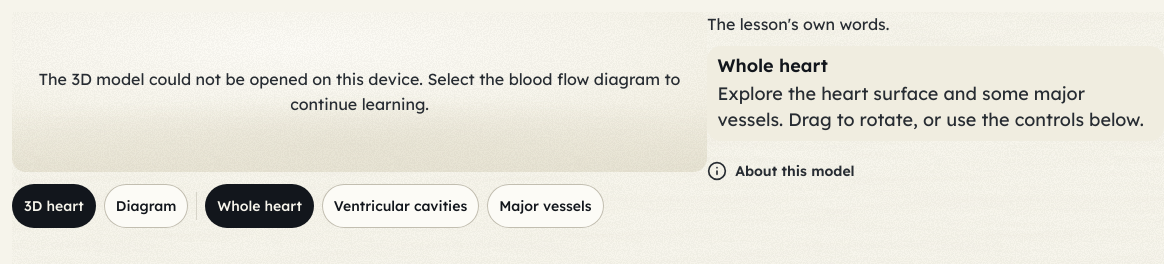
Scenario: a 3D scene on a lesson slide › folds the heart and the flow diagram switch into the scene row and keeps the focus on it
The image size is (1164, 264).
Click the button with aria-label "Blood flow diagram".
click(146, 206)  # box 104,184 -> 188,228
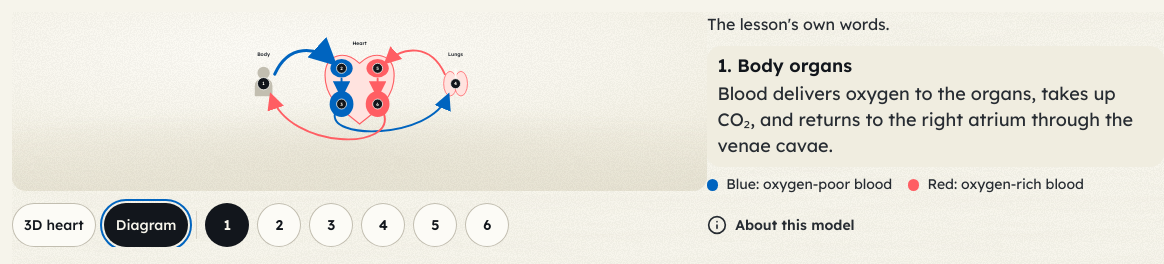
Expected: the number of buttons with class "stage3d-bead" is 6
Click the button named "3. Right ventricle".
click(331, 225)  # box 309,203 -> 353,247
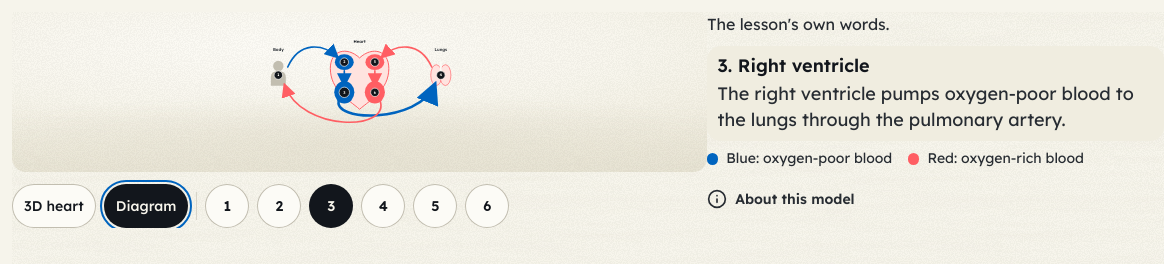
Expected: the message shows "pulmonary artery", 718,82 -> 1134,131
